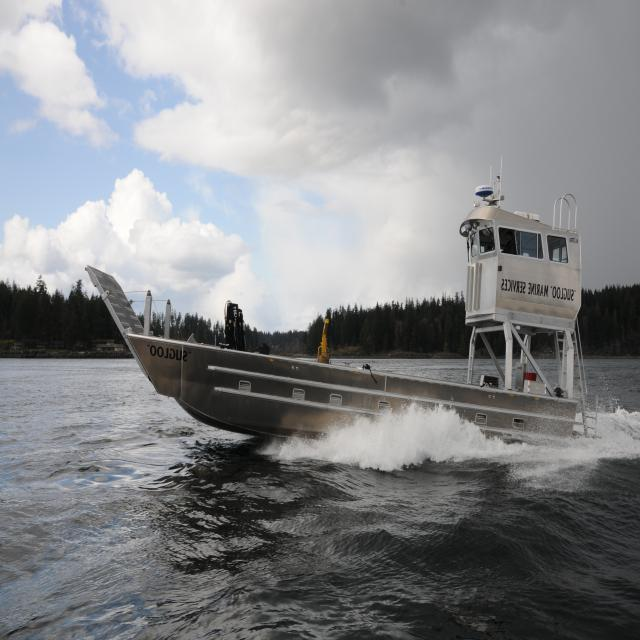houseboat: (92, 172, 592, 459)
